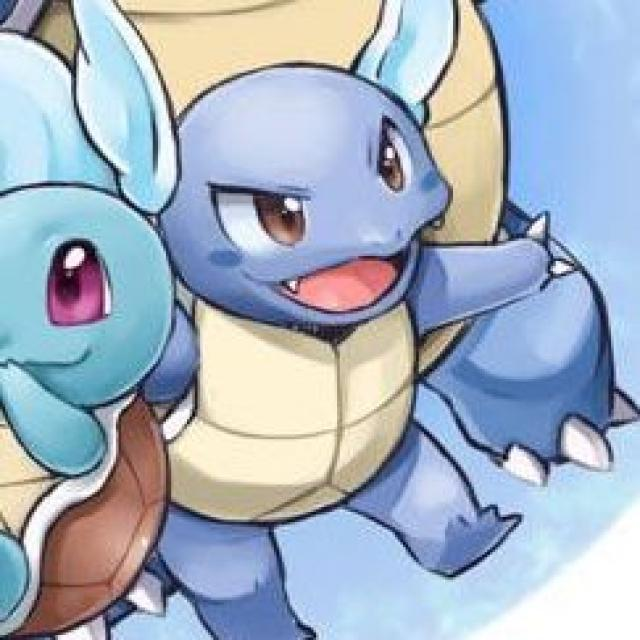Wartortle: (83, 9, 541, 640)
